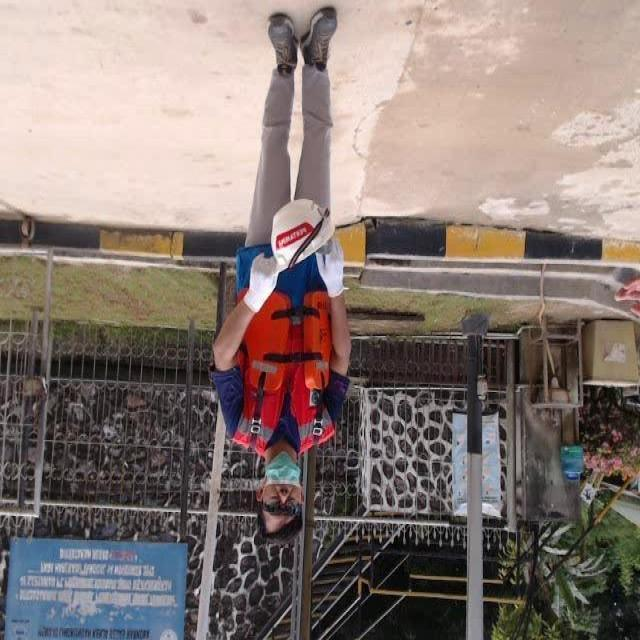gloves: (239, 256, 276, 311), (317, 236, 347, 298)
